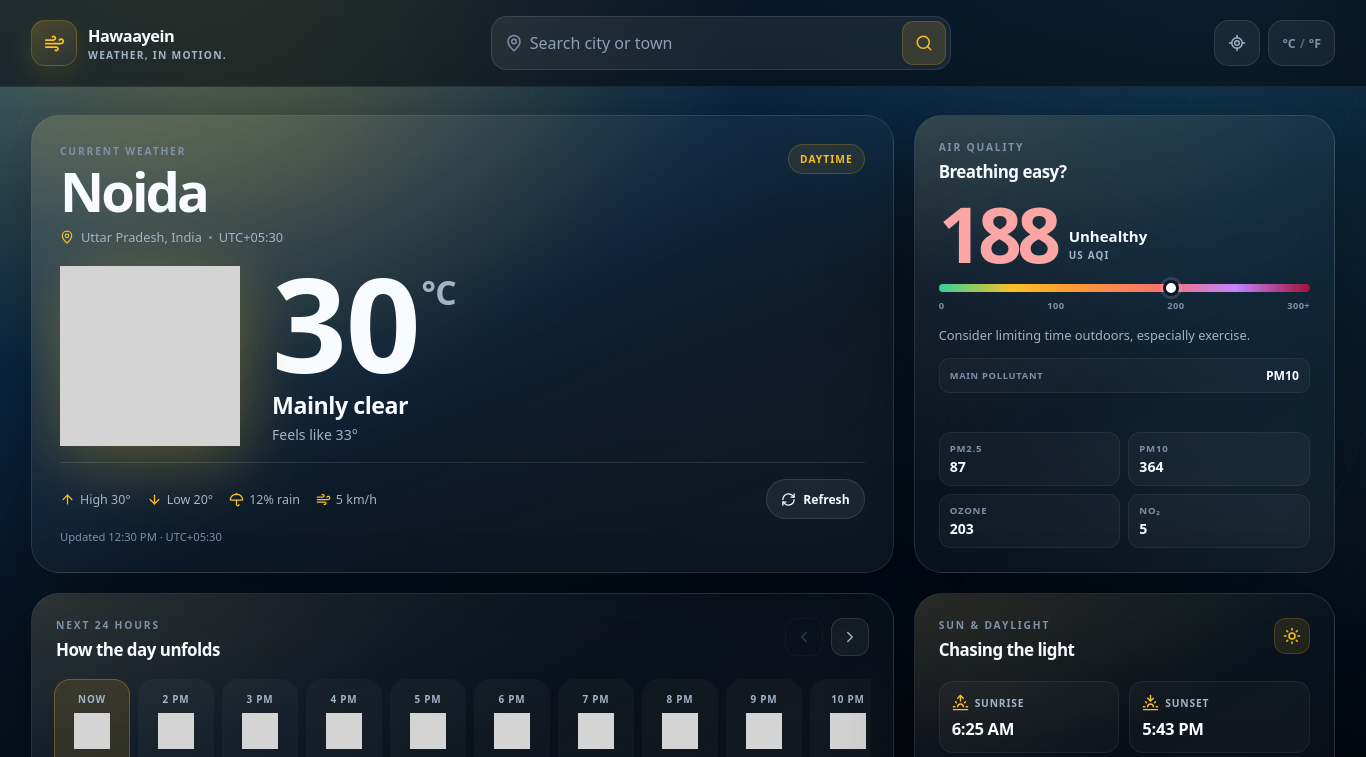
switches between Celsius and Fahrenheit
Expected: the heading "Noida" is shown, [60,154,207,228]
Expected: the text with class "temp-number" reads "30", [272,233,420,411]
Click the button named "switch to fahrenheit": {"x": 1302, "y": 43} [1268,20,1335,66]
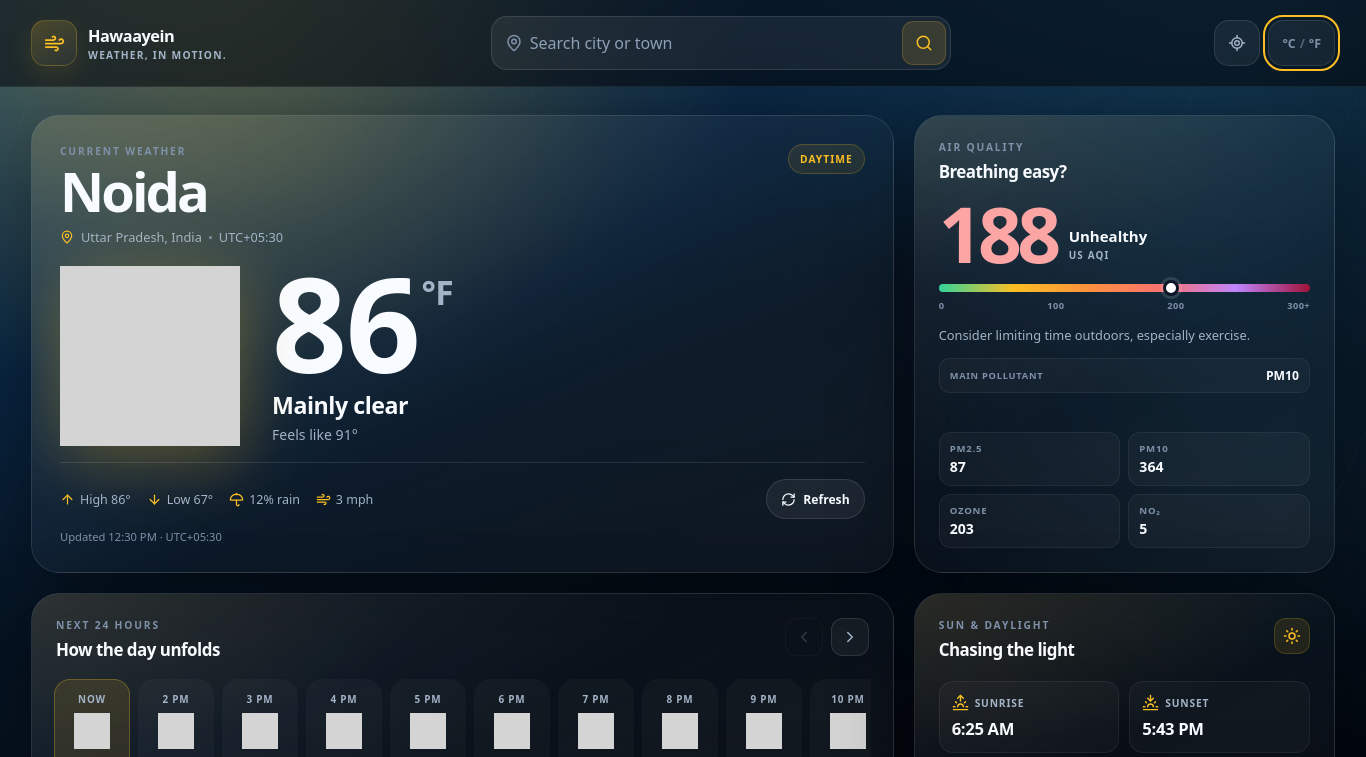
Expected: the text with class "temp-number" reads "86", [272,233,420,411]
Expected: the button named "switch to celsius" is shown, [1268,20,1335,66]
